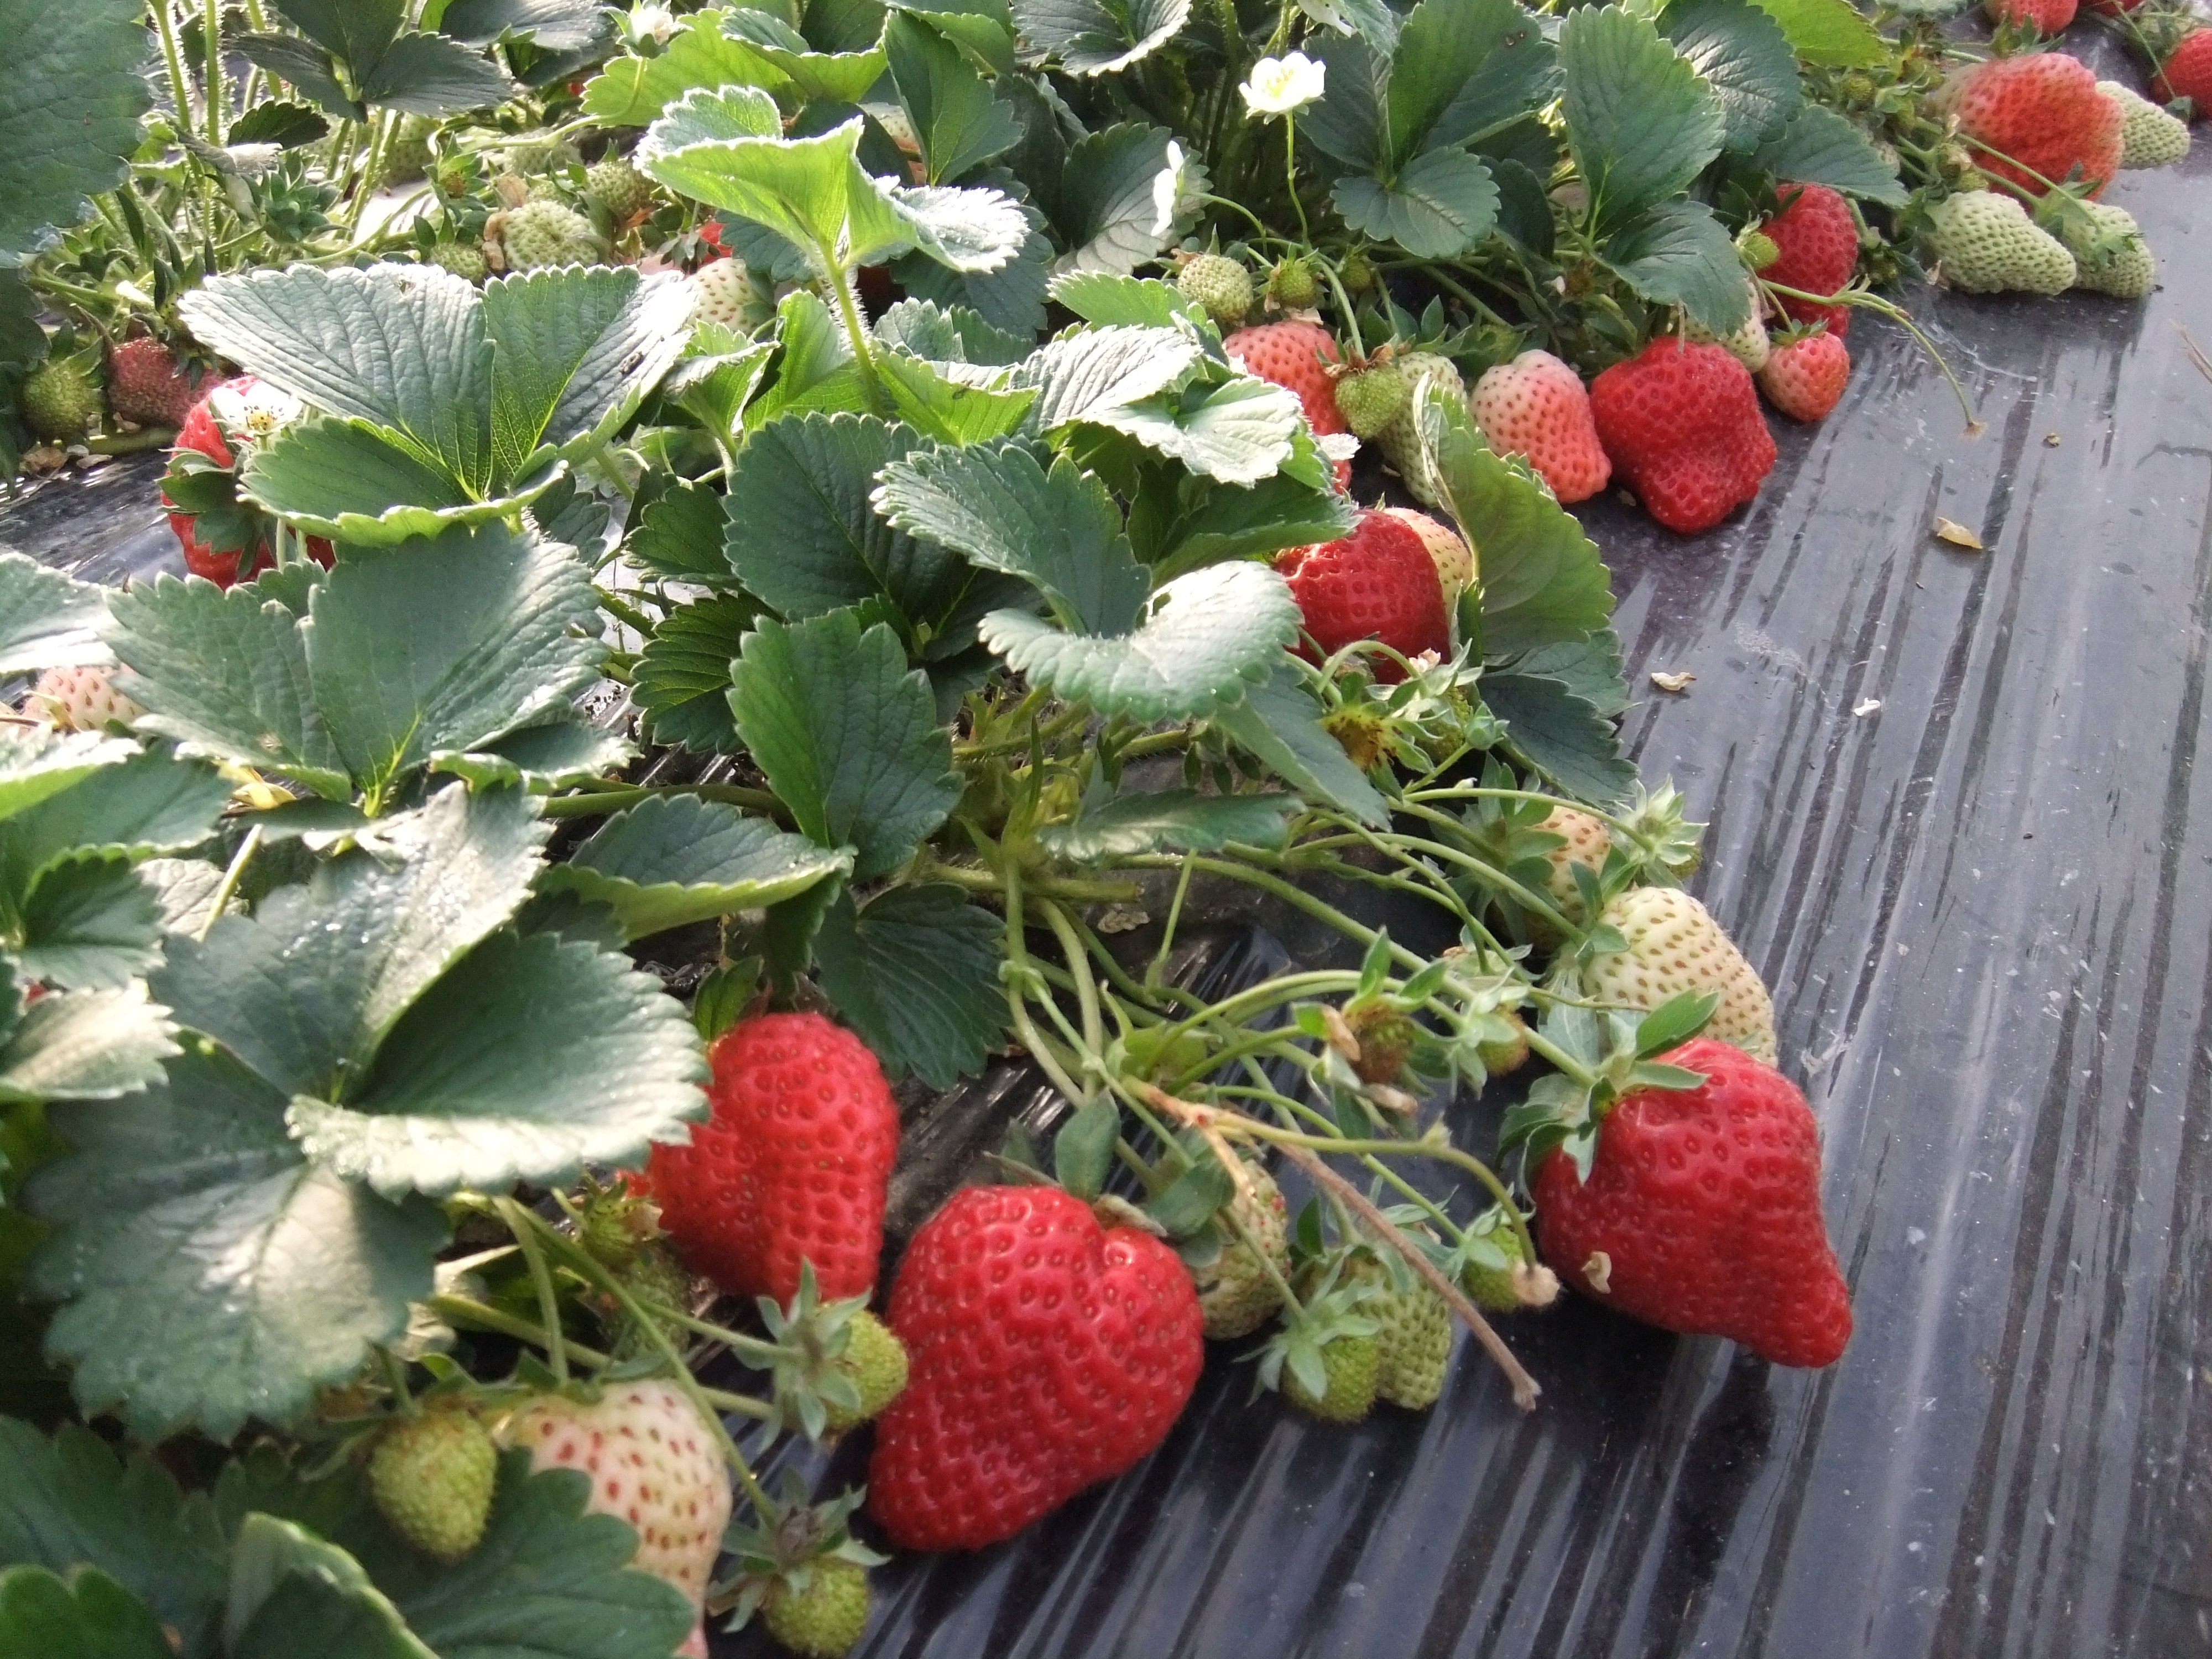StrawberryCone: (833, 1161, 1211, 1561), (1521, 1028, 1867, 1385), (589, 995, 932, 1321)
StrawberryIrremovable: (484, 1352, 738, 1645), (1103, 1114, 1310, 1349), (1557, 880, 1811, 1066), (1294, 1201, 1482, 1413), (1439, 774, 1634, 943), (1460, 324, 1606, 525), (1928, 40, 2120, 185), (362, 1405, 512, 1561), (761, 1300, 921, 1443), (1357, 349, 1484, 512), (749, 1521, 894, 1650), (1217, 321, 1357, 450), (646, 246, 799, 359), (1651, 240, 1778, 368), (1266, 1316, 1393, 1441), (1935, 190, 2067, 305), (2033, 190, 2160, 305), (1432, 1197, 1554, 1310), (2094, 59, 2195, 176), (498, 197, 608, 293), (17, 324, 103, 444), (1754, 326, 1858, 422), (1324, 340, 1407, 443), (1454, 995, 1540, 1093), (1163, 249, 1261, 315)
StrawberryOther: (1251, 465, 1491, 721), (131, 373, 352, 599), (1752, 162, 1876, 333)
StrawberryRemovable: (843, 1175, 1204, 1551), (1529, 1037, 1855, 1385), (599, 999, 914, 1310), (1261, 481, 1479, 713), (1590, 317, 1787, 545), (141, 378, 348, 592), (1754, 171, 1876, 331)
StrawberryWedge: (1587, 310, 1792, 552)
